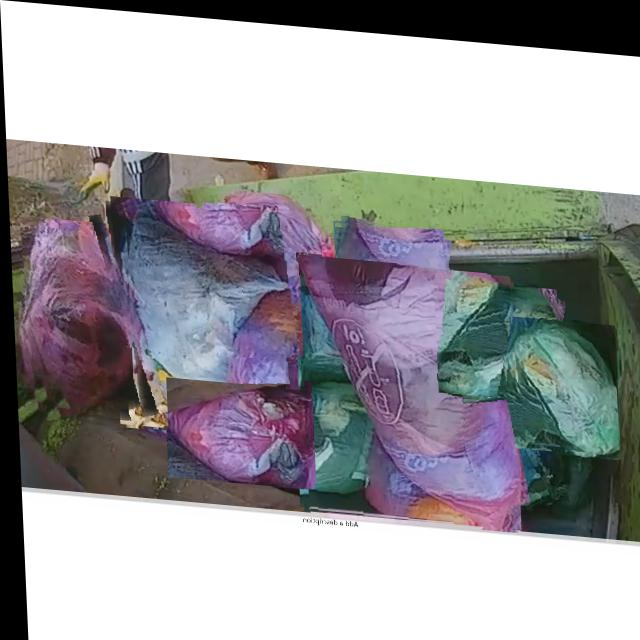general_trashbag: (510, 310, 616, 445), (434, 284, 556, 391), (460, 388, 563, 495)
other_trashbag: (297, 250, 511, 521), (120, 204, 278, 428), (23, 218, 128, 412), (200, 188, 319, 351), (164, 384, 306, 481), (335, 217, 441, 339)
